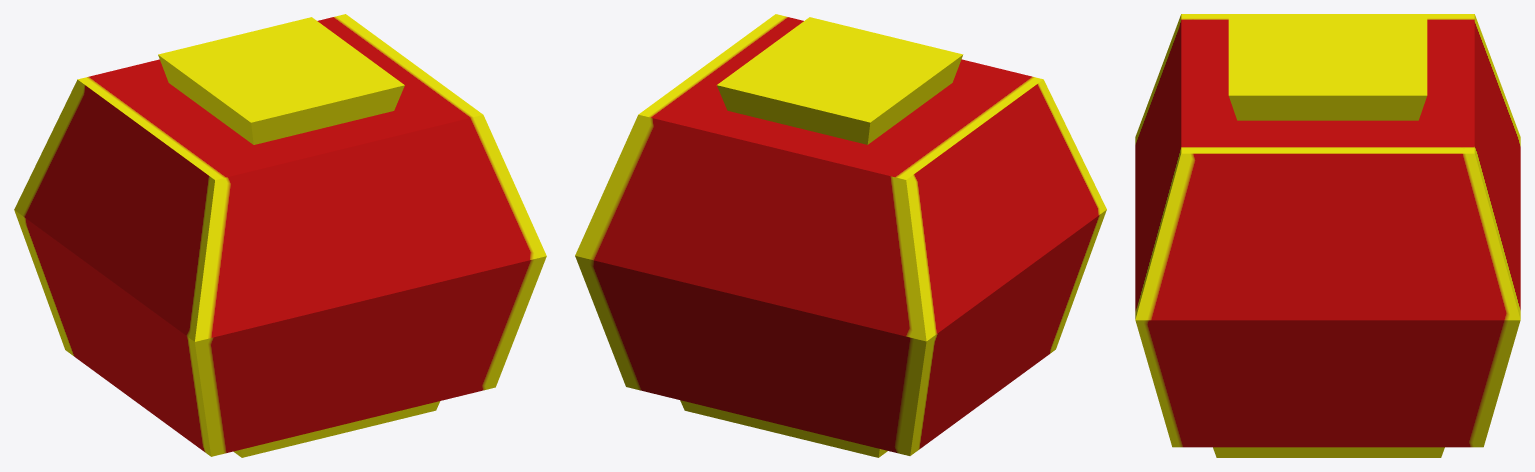
File: Lantern broke.fbx
3 views of the same model, side by side, from view 1: azimuth 30°, elevation 25°; view 2: azimuth 150°, elevation 25°; view 3: azimuth 270°, elevation 25° (orthographic). The views are drawn at different scales.
Parts seen in each view (by area): view 1: lantern.002; view 2: lantern.002; view 3: lantern.002.
Boxes of the visible parts, x1,y1,x2,y2 form: lantern.002: [14, 14, 546, 457]; lantern.002: [575, 14, 1106, 457]; lantern.002: [1135, 14, 1520, 457].
Bounding box in the file's own units: 0.9 × 0.8 × 0.8.
